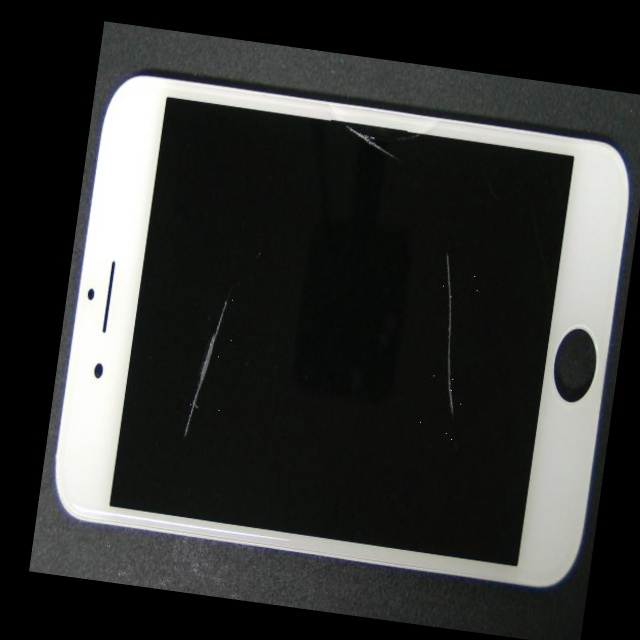scratch: (208, 71, 640, 492), (89, 231, 256, 596), (253, 78, 498, 177)
